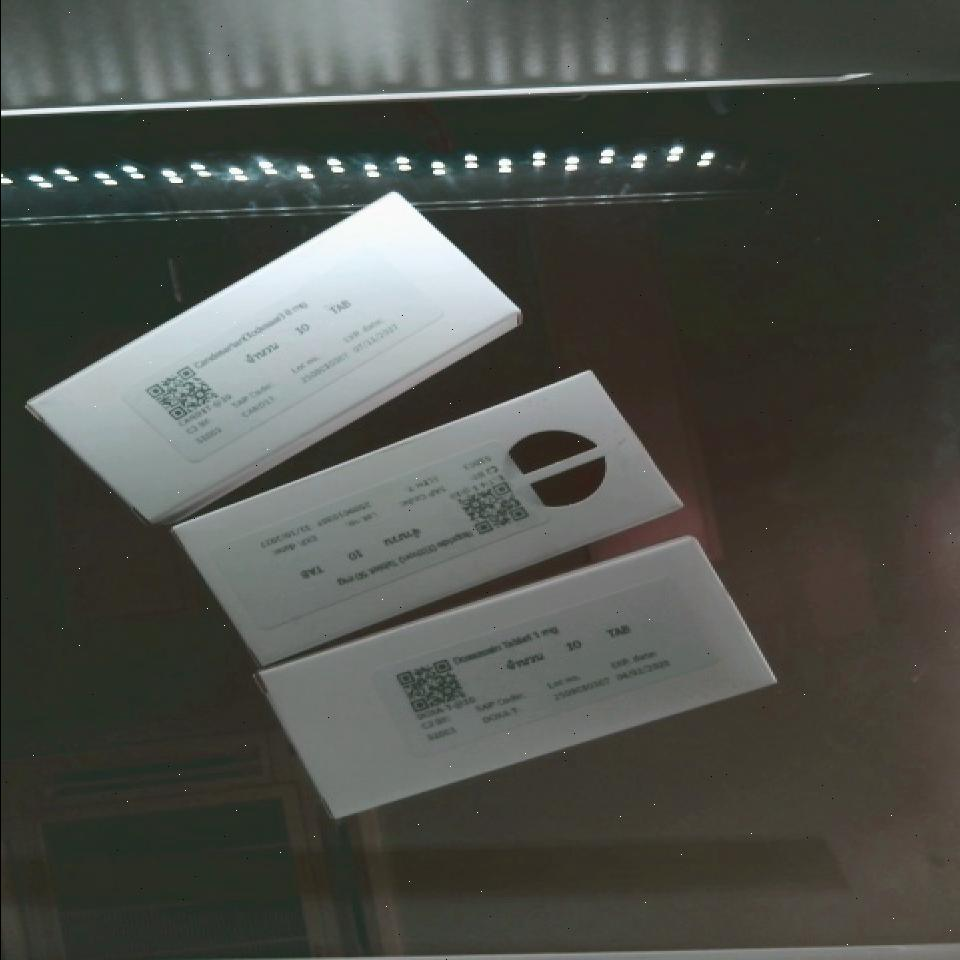medicine_box: (20, 162, 521, 547), (174, 354, 676, 681), (251, 523, 773, 829)
qr_code: (124, 340, 244, 449), (440, 461, 542, 550), (379, 644, 478, 735)
